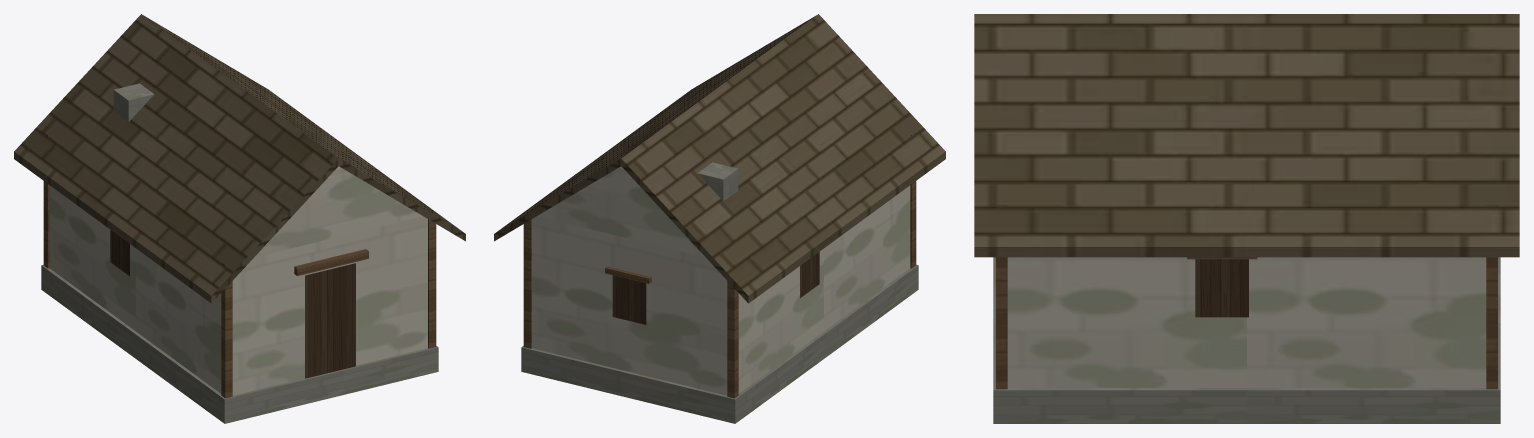
Rendered from ae_forest_stone_medium_block_lod1.glb.
3 renders of one model, left to right at view 1: azimuth 30°, elevation 25°; view 2: azimuth 150°, elevation 25°; view 3: azimuth 270°, elevation 25°, orthographic. The views are drawn at different scales.
Visible parts, largest first — view 1: ae_forest_stone_medium_block_lod1; view 2: ae_forest_stone_medium_block_lod1; view 3: ae_forest_stone_medium_block_lod1.
Part boxes in pixels (<box>): ae_forest_stone_medium_block_lod1: <box>14,14,465,423</box>; ae_forest_stone_medium_block_lod1: <box>494,14,945,423</box>; ae_forest_stone_medium_block_lod1: <box>974,14,1519,423</box>.
Bounding box in the file's own units: 4.9 × 4.5 × 6.59.
Materials: 1 (1 with a texture image).
